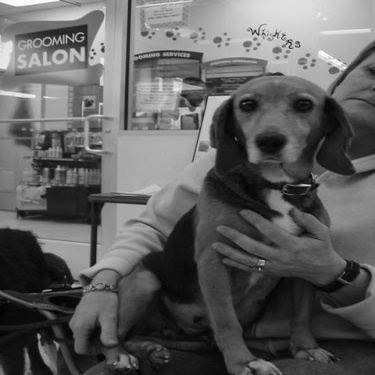dog: (84, 70, 360, 372)
